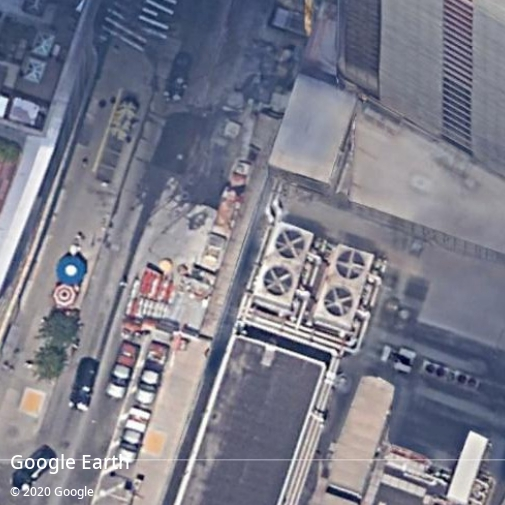Vent: (275, 229, 304, 259), (324, 287, 353, 317), (264, 267, 293, 295), (336, 250, 364, 279)
